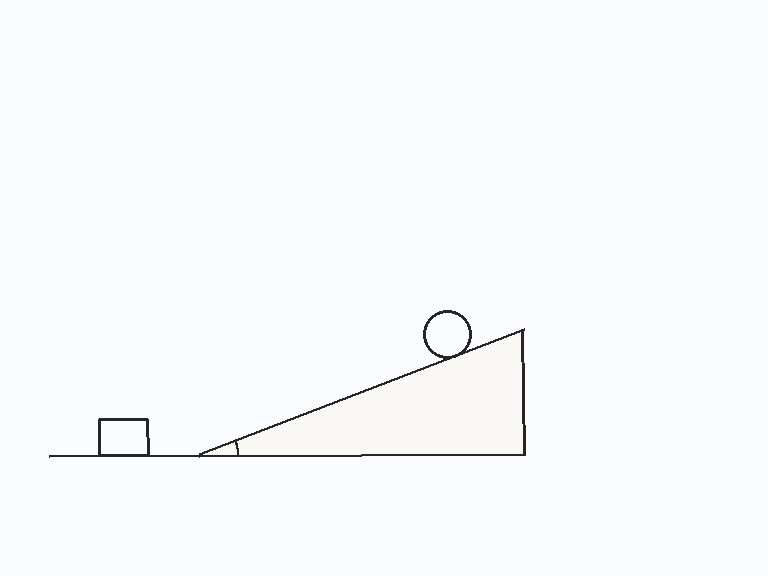ball: (421, 308, 473, 360)
block: (97, 417, 149, 457)
ramp: (196, 328, 525, 457)
